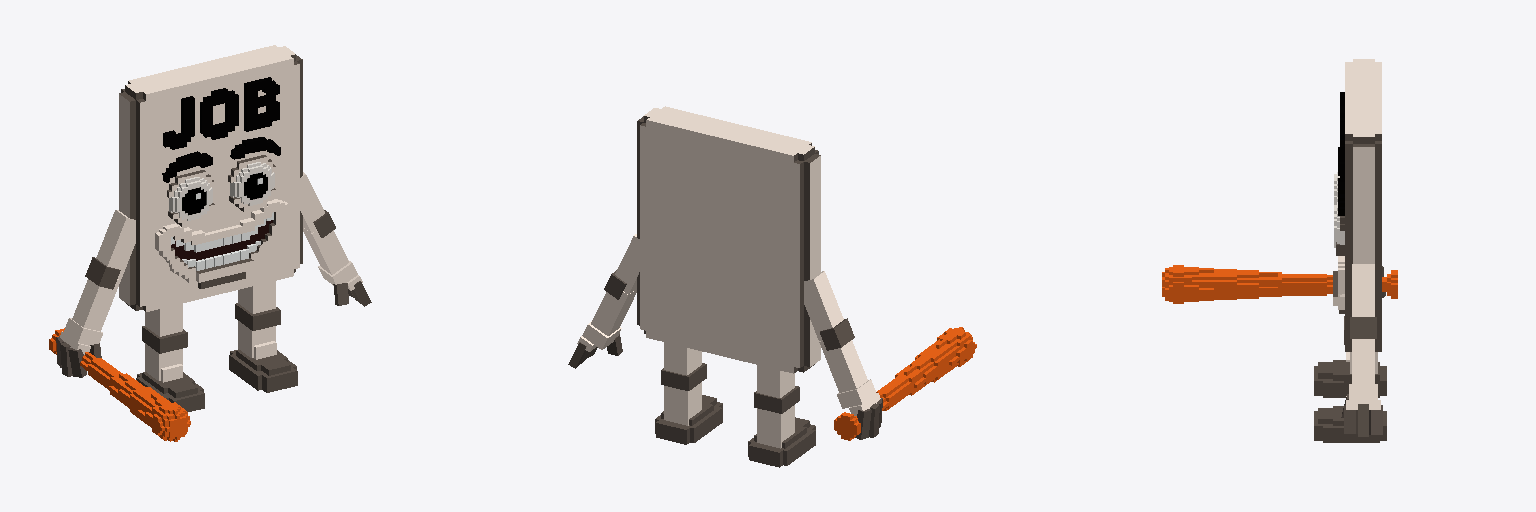
3 renders of one model, left to right at view 1: azimuth 30°, elevation 25°; view 2: azimuth 150°, elevation 25°; view 3: azimuth 270°, elevation 25°, orthographic.
Parts seen in each view (by area): view 1: Cube0061, Cube0051, Text1, Sphere1, Circle1; view 2: Cube0061, Cube0051, Circle1; view 3: Cube0061, Cube0051, Circle1, Text1.
Boxes of the visible parts, <box> form: Cube0061: <box>60,45,362,382</box>; Cube0051: <box>56,54,371,411</box>; Text1: <box>162,77,280,182</box>; Sphere1: <box>169,162,274,270</box>; Circle1: <box>49,328,190,441</box>; Cube0061: <box>577,106,880,448</box>; Cube0051: <box>568,116,882,467</box>; Circle1: <box>834,327,976,440</box>; Cube0061: <box>1333,59,1381,409</box>; Cube0051: <box>1314,134,1386,442</box>; Circle1: <box>1162,265,1397,303</box>; Text1: <box>1338,92,1344,215</box>.
Size of the model in its own units: 7.68 by 7.58 by 5.2.
Materials: 5 (1 with a texture image).